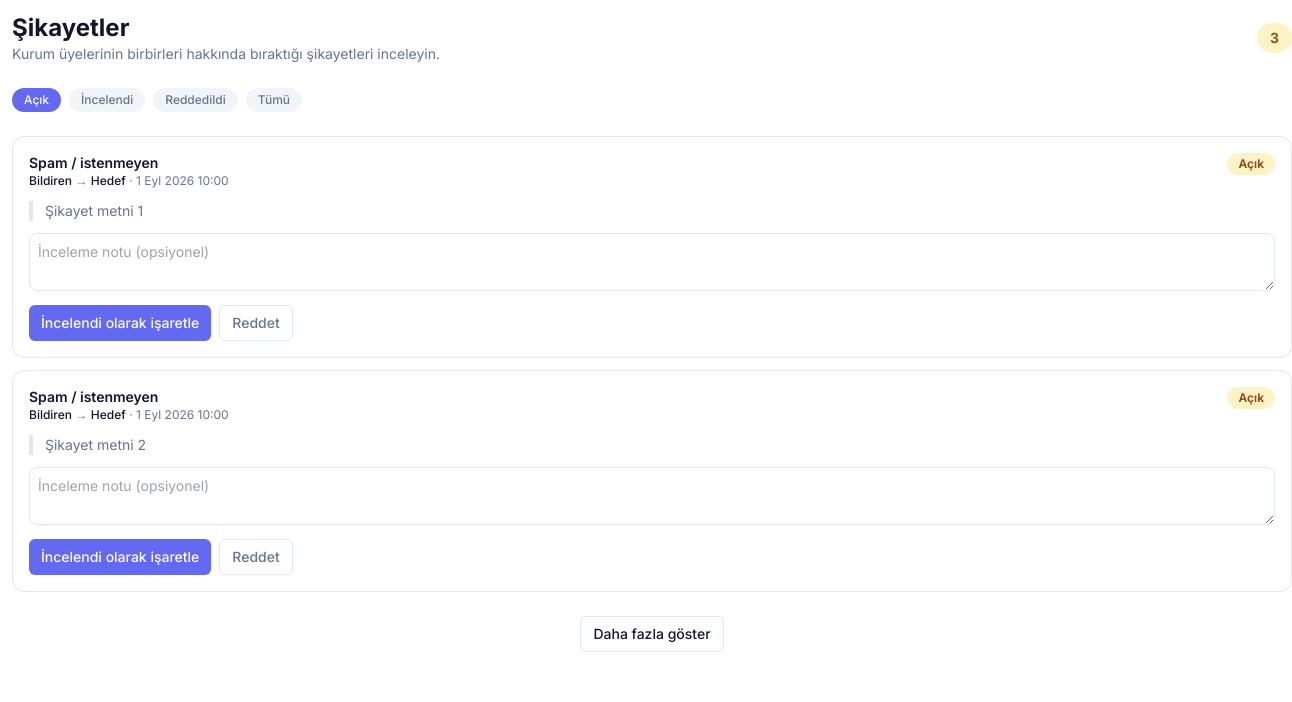
Test: Şikayet paneli sayfalama (AN-39) › total > items iken "Daha fazla göster" görünür; tıklayınca offset'li istek gider ve satırlar eklenir
This screenshot has width=1292, height=702.
expect the text "Şikayet metni 1" is shown: met, box [29, 201, 1275, 221]
Step 1. Click the button "Daha fazla göster" → (652, 634), box [580, 616, 724, 652]
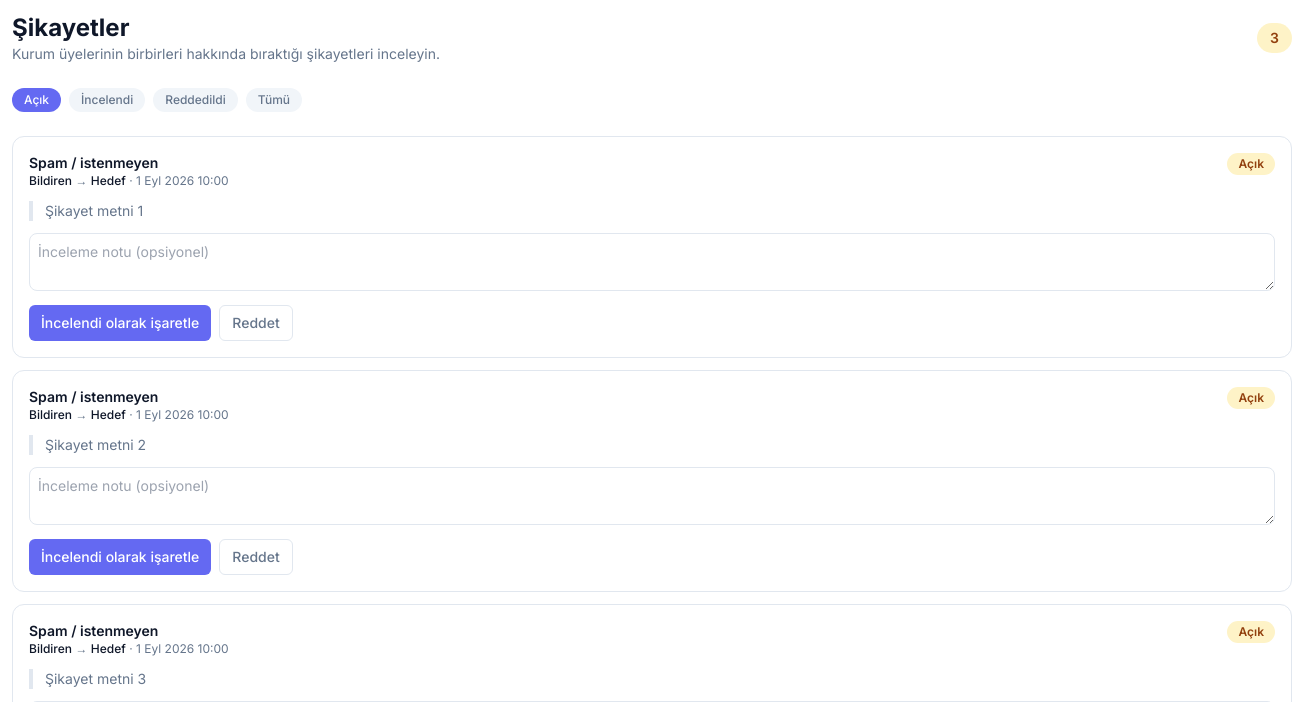
expect the text "Şikayet metni 1" is shown: met, box [29, 201, 1275, 221]
expect the text "Şikayet metni 3" is shown: met, box [29, 669, 1275, 689]
expect the button "Daha fazla göster" is gone: met
